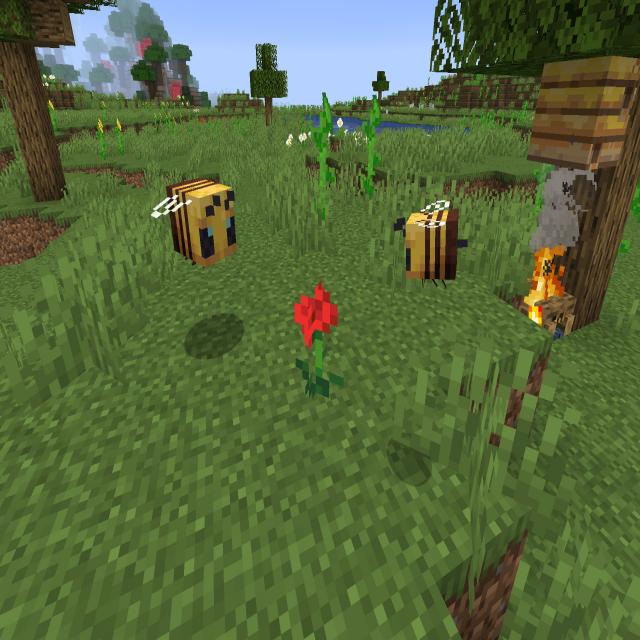Bee: (150, 174, 240, 271), (391, 197, 470, 294)
